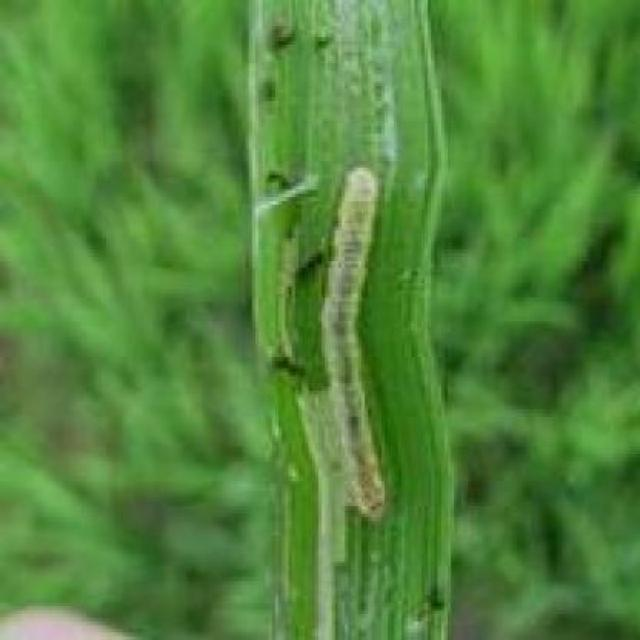leaf-folder: (302, 153, 423, 545)
